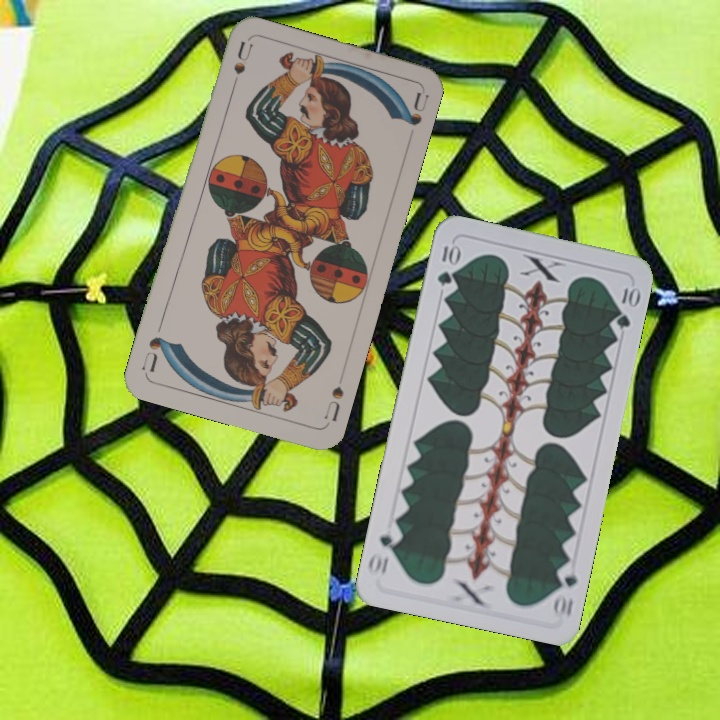G10: (549, 559, 580, 620), (433, 239, 462, 289)
SU: (226, 38, 254, 97), (319, 382, 347, 427)
